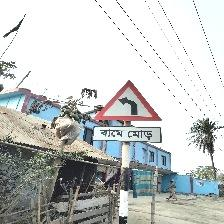Left-Turn: (93, 81, 164, 145)
